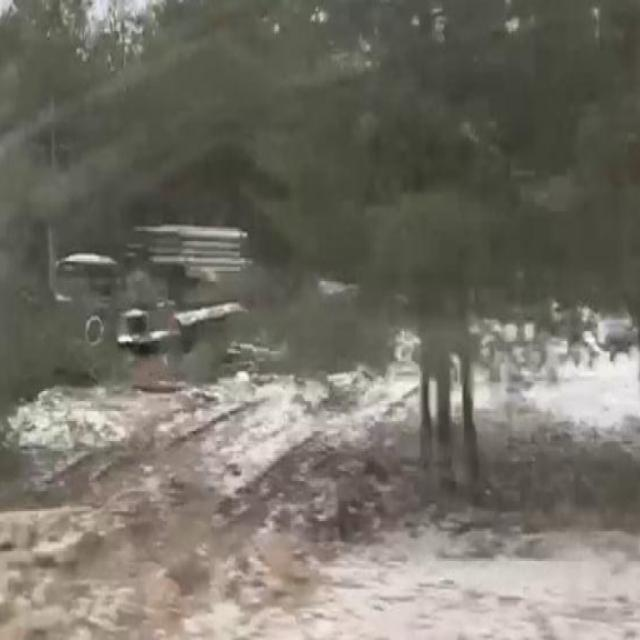MLRS: (50, 202, 255, 382)
